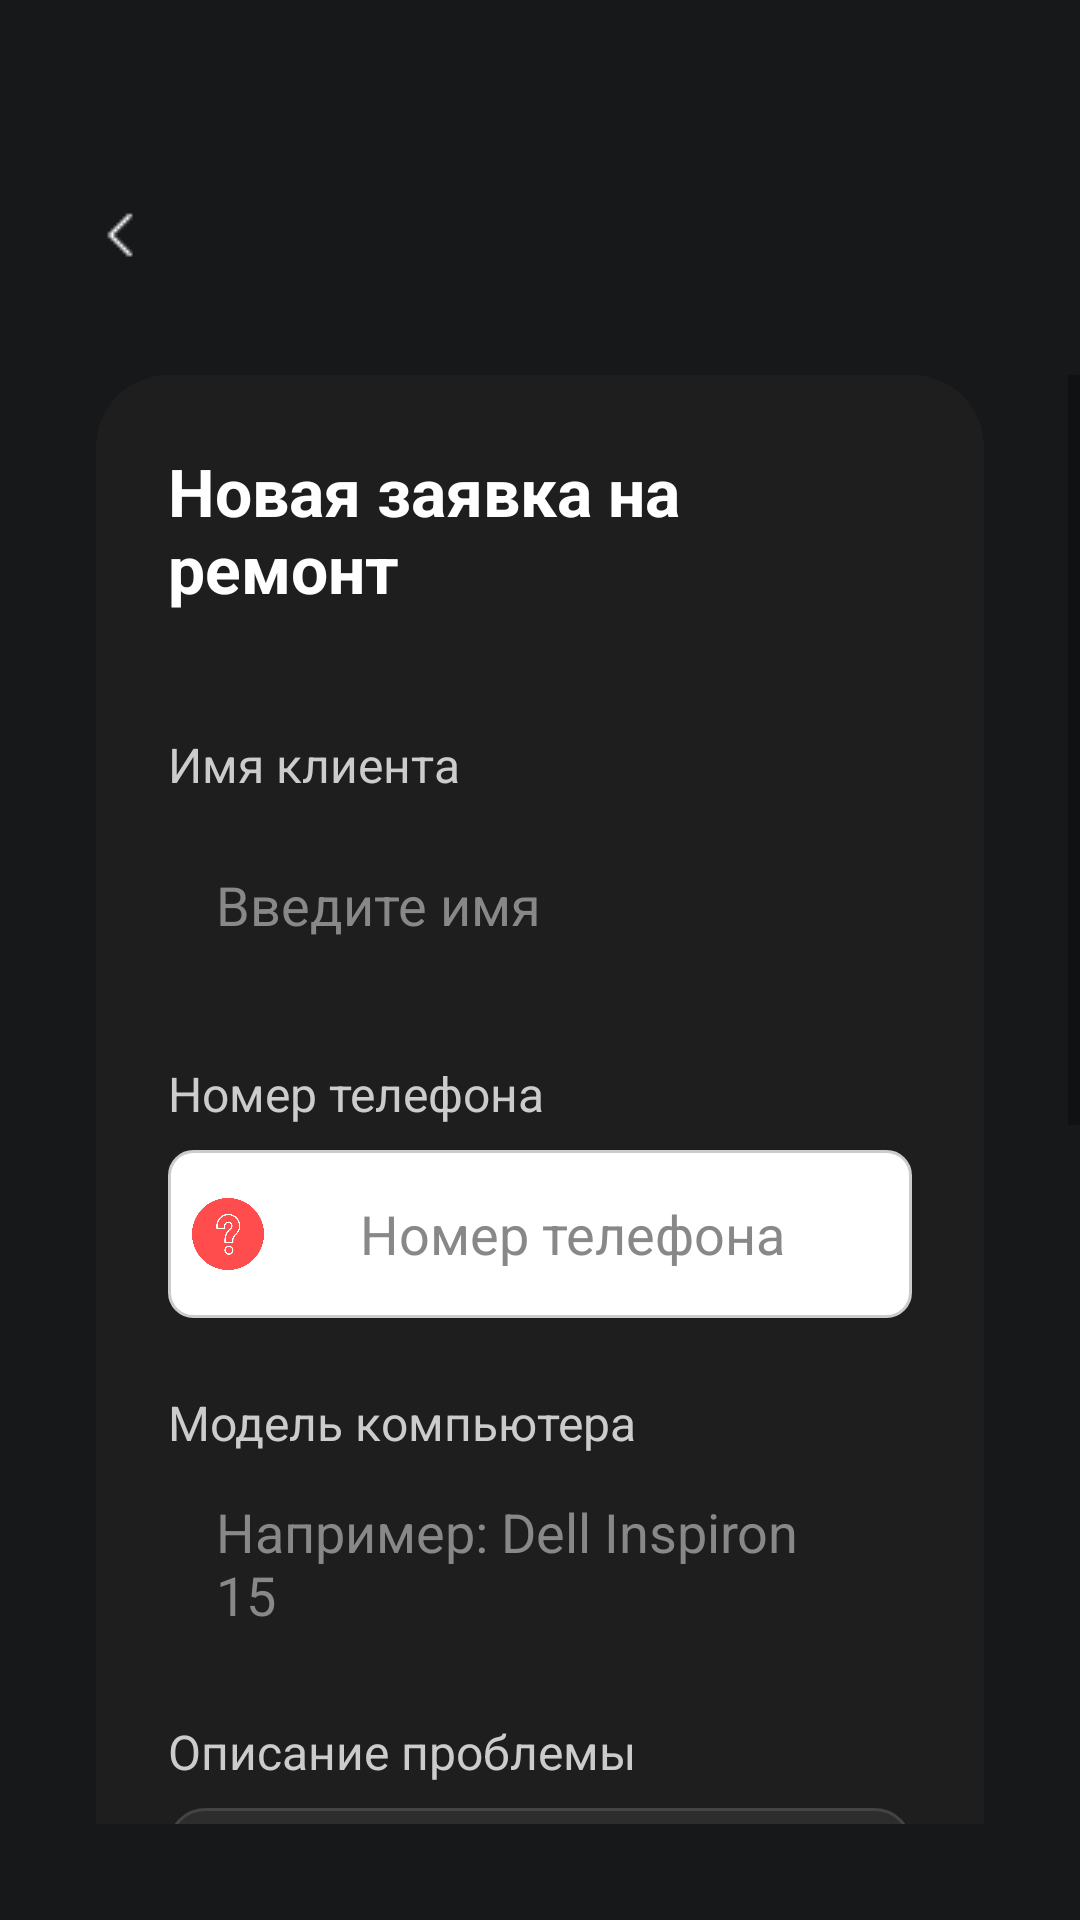

Point at icon controls on the screen. Image size 1080 × 1920, points as [x,y].
question mark: [228,1234]
Назад: [120,235]
